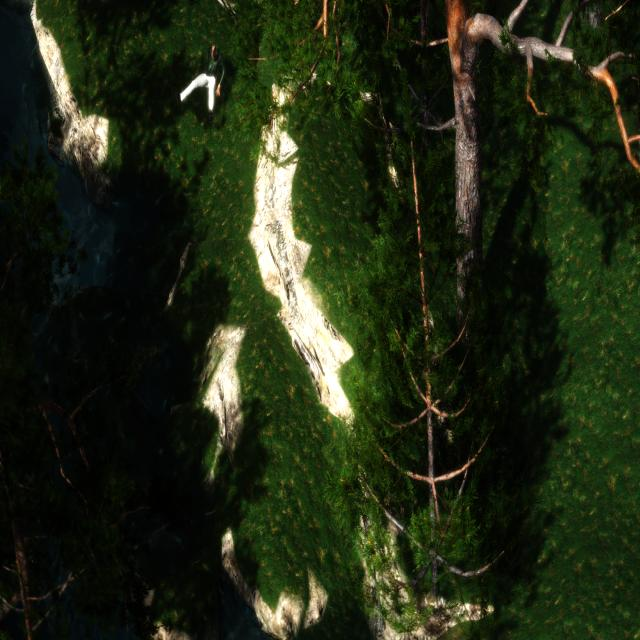Human: (178, 40, 229, 127)
